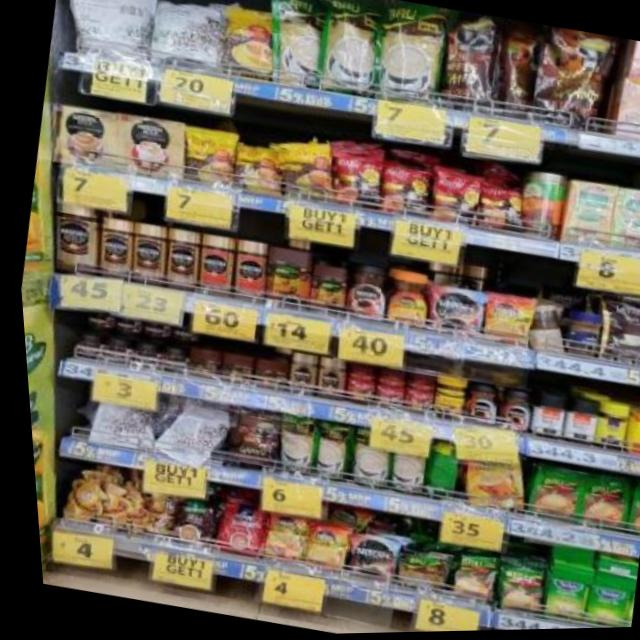Coffee: (44, 200, 101, 274), (456, 462, 521, 515), (420, 287, 480, 341), (475, 296, 530, 349), (122, 224, 167, 288), (340, 266, 387, 325), (381, 273, 429, 330), (90, 217, 133, 279), (338, 536, 389, 585), (158, 231, 199, 291), (257, 514, 302, 565), (294, 524, 342, 571), (280, 354, 314, 398), (459, 386, 495, 427), (493, 393, 529, 434), (307, 359, 342, 400), (128, 344, 155, 371), (97, 340, 126, 365), (72, 335, 98, 360), (155, 351, 183, 373), (80, 311, 107, 331), (109, 317, 136, 336), (137, 322, 164, 341), (166, 328, 193, 345)
